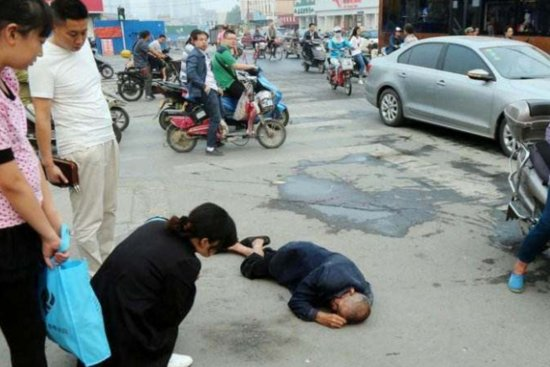fall: (222, 225, 383, 334)
